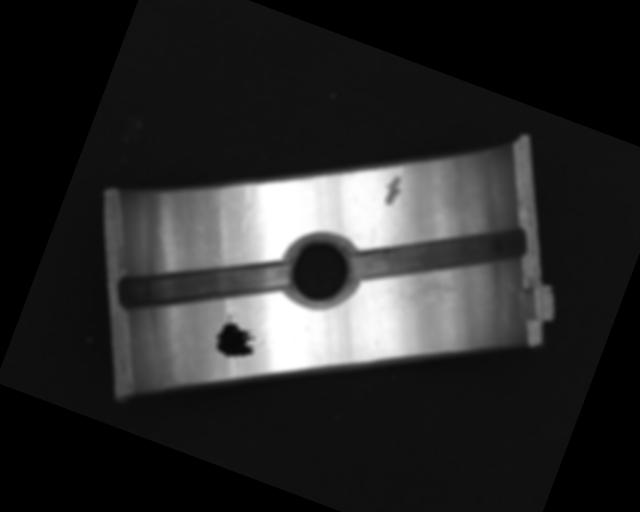blot: (208, 311, 269, 368)
bruise: (378, 171, 407, 210)
gap: (349, 181, 527, 328), (113, 217, 291, 359)
hole: (272, 224, 369, 321)
nick: (229, 183, 266, 233)
scratch: (389, 264, 467, 328)
